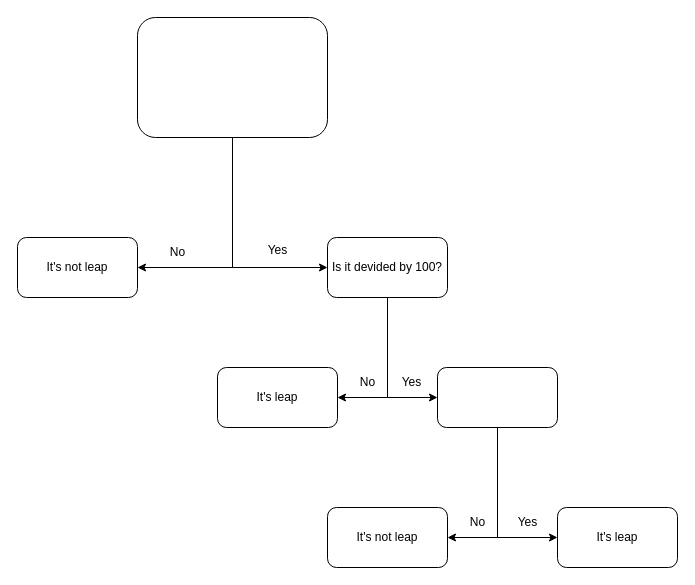
This 695x585 diagram has some shape labels left out. Each missing label, with the centre of its shape:
Is it devided by 400?: point 497,397
Is it devided by 4?: point 232,77
